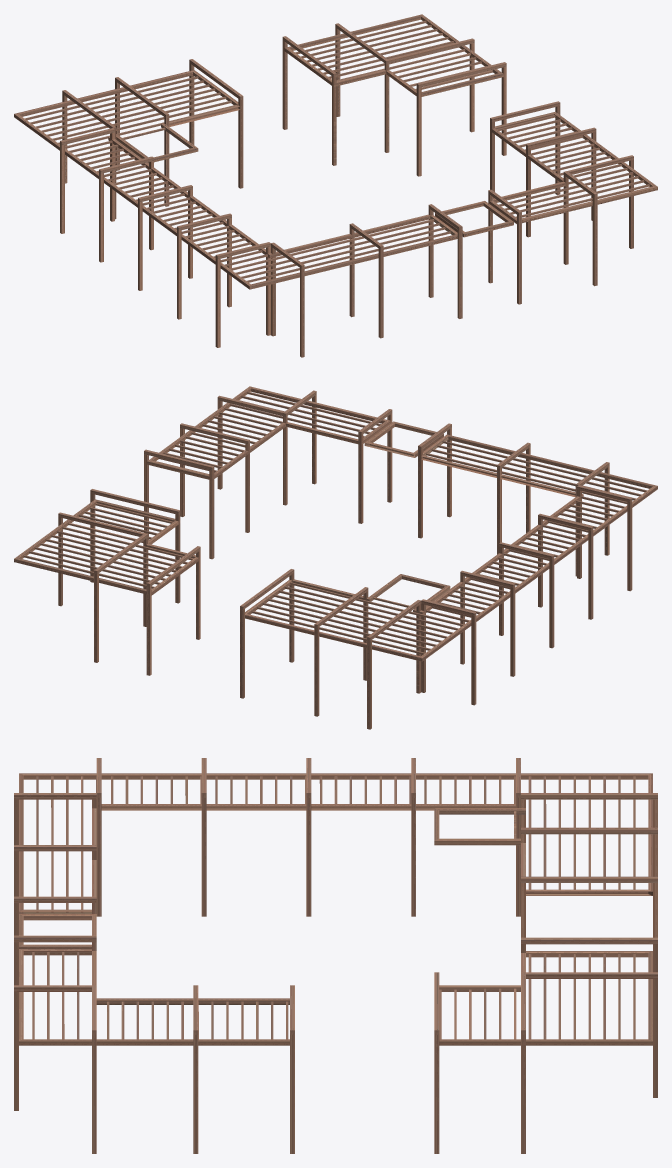
File: pergolas.glb
3 renders of one model, top to bottom at view 1: azimuth 30°, elevation 25°; view 2: azimuth 150°, elevation 25°; view 3: azimuth 270°, elevation 25°, orthographic. The views are drawn at different scales.
Parts seen in each view (by area): view 1: pergolas; view 2: pergolas; view 3: pergolas.
Part boxes in pixels (left/top/right/bottom): pergolas: left=14, top=14, right=657, bottom=357; pergolas: left=14, top=386, right=657, bottom=729; pergolas: left=14, top=758, right=657, bottom=1153.
Size of the model in its own units: 66.1 by 14 by 66.1.
1 material, 1 textured.
